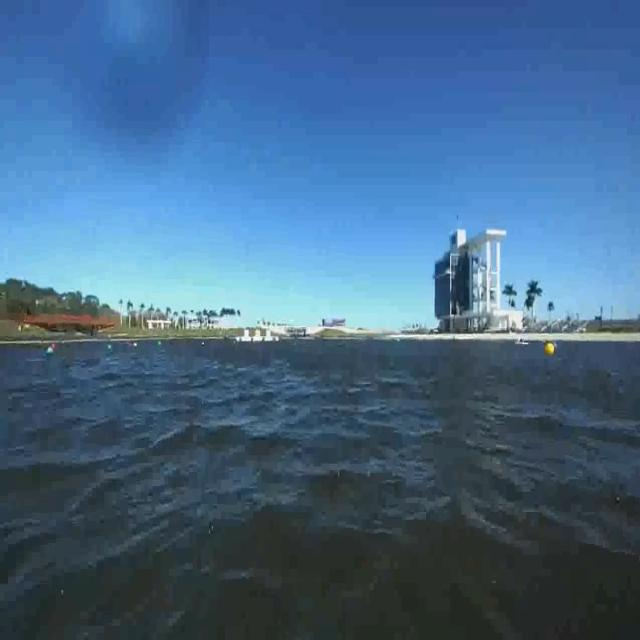yellow-buoy: (544, 339, 557, 358)
